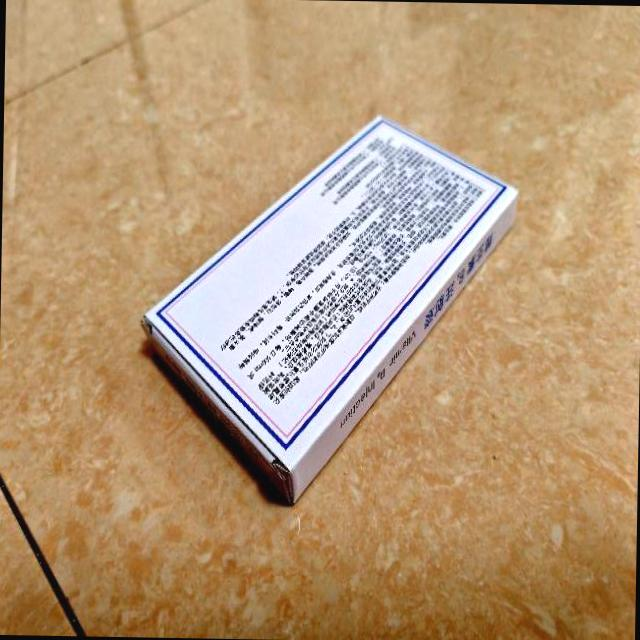box: (138, 110, 520, 508)
